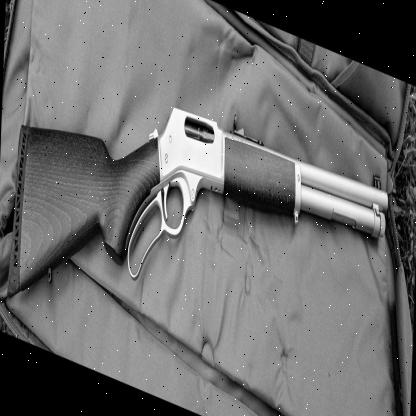rifle: (7, 21, 388, 416)
